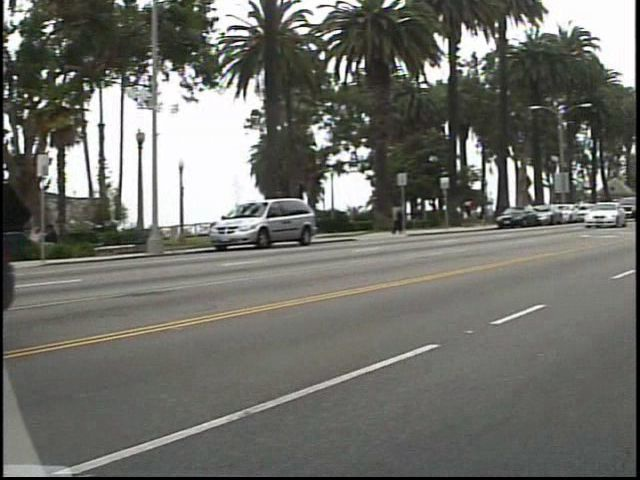person: (398, 200, 420, 240), (471, 195, 490, 229)
